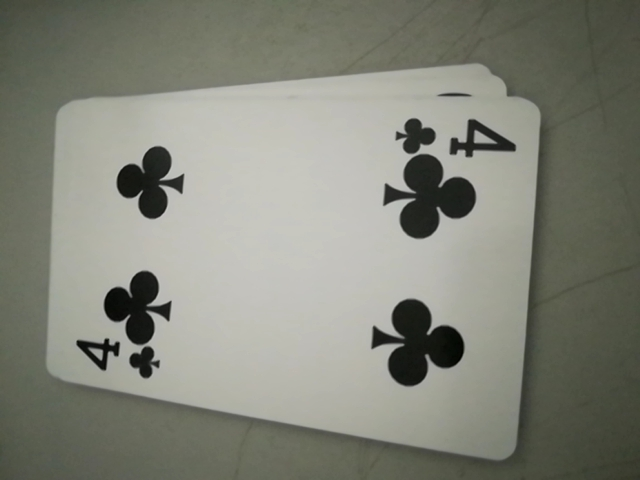mh 4: (391, 104, 516, 161), (66, 334, 166, 387)
